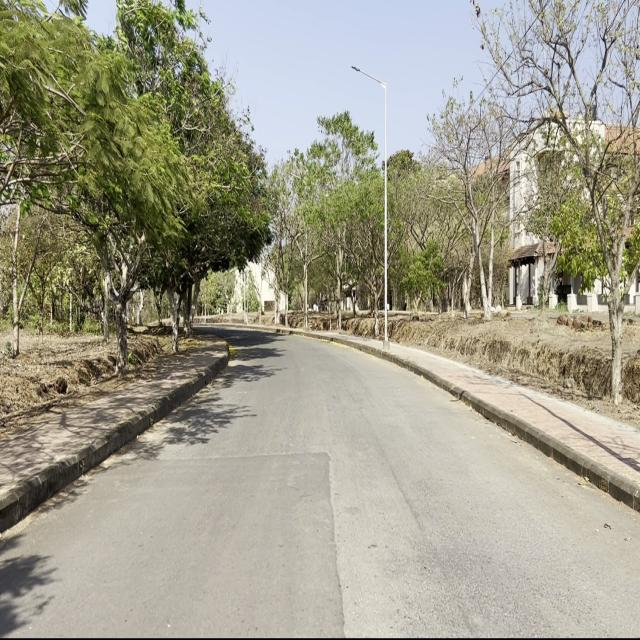Road: (0, 329, 639, 639)
